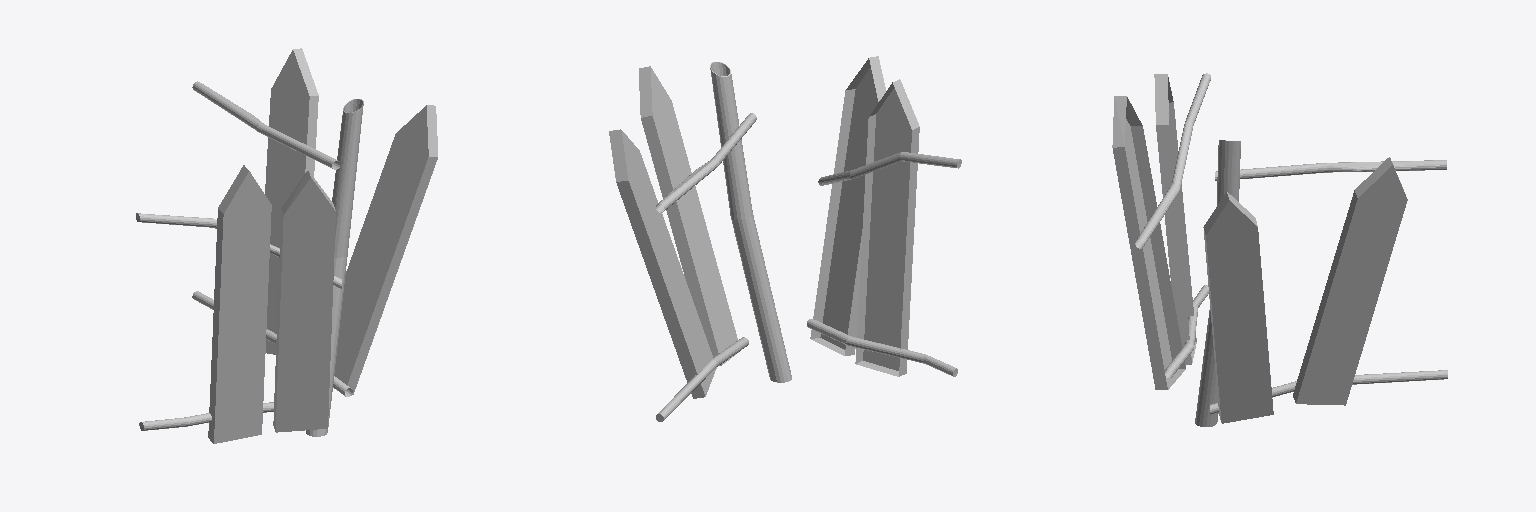
File: destroyed_ogrodzenie2.obj
3 renders of one model, left to right at view 1: azimuth 30°, elevation 25°; view 2: azimuth 150°, elevation 25°; view 3: azimuth 270°, elevation 25°, orthographic.
Parts seen in each view (by area): view 1: Box001, Box002, Object002; view 2: Box001, Box002, Object002; view 3: Box002, Box001, Object002.
Boxes of the visible parts, x1,y1,x2,y2 form: Box001: [208, 165, 335, 443]; Box002: [265, 48, 437, 394]; Object002: [136, 81, 363, 436]; Box001: [810, 56, 919, 376]; Box002: [609, 66, 738, 398]; Object002: [656, 62, 961, 421]; Box002: [1203, 157, 1407, 423]; Box001: [1112, 74, 1196, 389]; Object002: [1135, 73, 1447, 426].
Size of the model in its own units: 252 by 241 by 236.